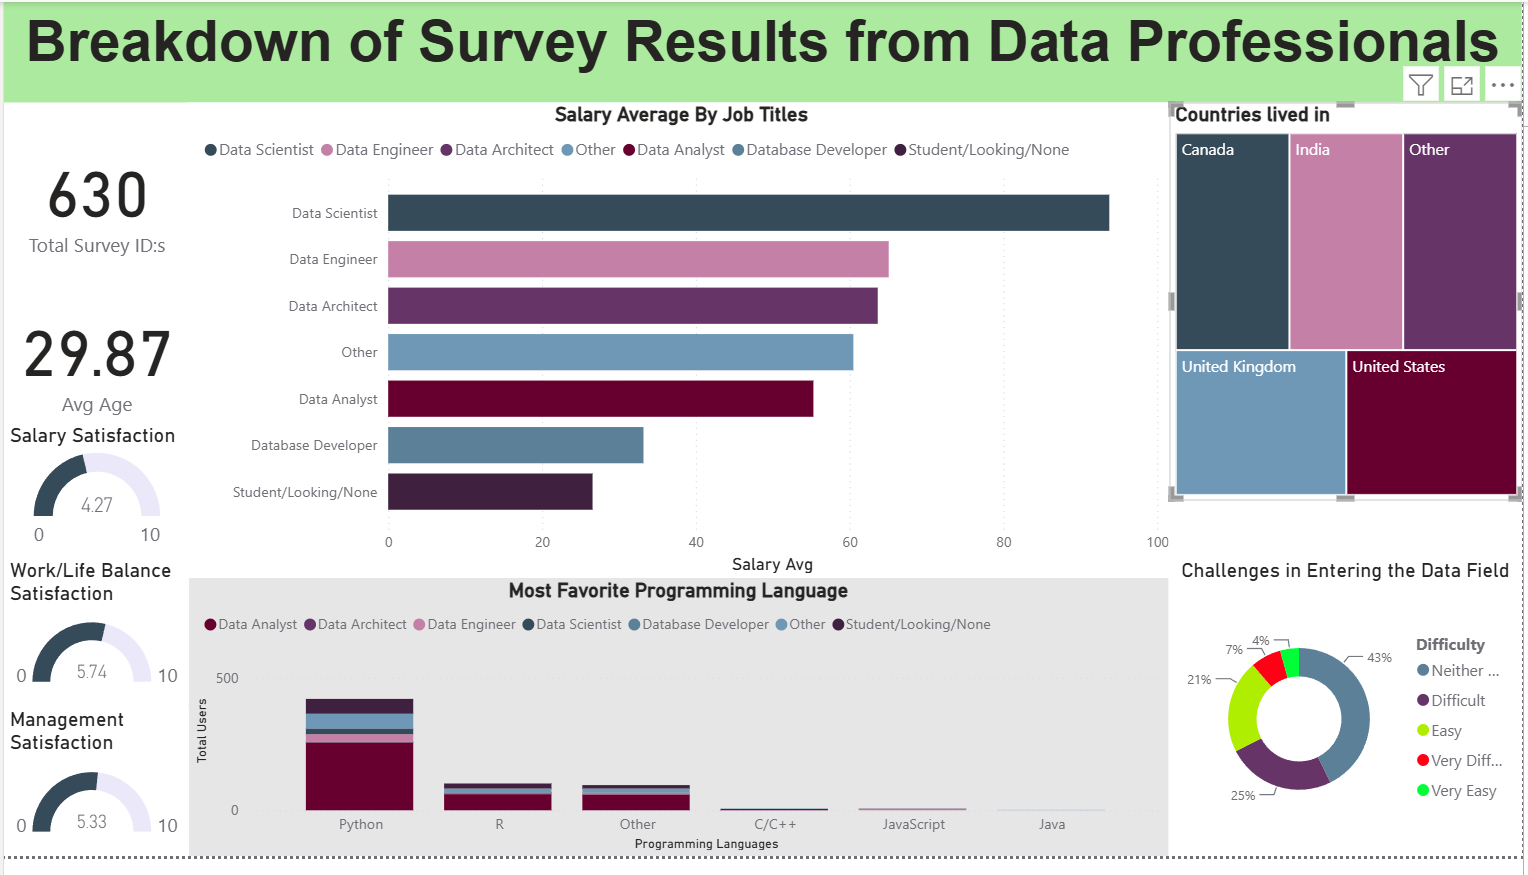

Layout of this report page (visuals, bound fields, positions):
{"tool":"powerbi","page":{"name":"Page 1","canvas":[1280,720],"ordinal":0},"visuals":[{"type":"textbox","box":[0,0,1279.5,84.7],"z":0},{"type":"card","fields":{"Values":["Count(Data Professional Survey.Unique ID)"]},"box":[0,110.3,156.1,111.8],"z":1000},{"type":"card","fields":{"Values":["Avg(Data Professional Survey.Q10 - Current Age)"]},"box":[0,243.9,156.1,111.8],"z":2000},{"type":"barChart","title":"Salary Average By Job Titles","fields":{"Category":["Data Professional Survey.Q1 - Which Title Best Fits your Current Role?.1"],"Y":["Avg(Data Professional Survey.Salary Avg)"],"Series":["Data Professional Survey.Q1 - Which Title Best Fits your Current Role?.1"]},"box":[156.1,84.2,831.2,401.4],"z":3000},{"type":"columnChart","title":"Most Favorite Programming Language","fields":{"Category":["Data Professional Survey.Q5 - Favorite Programming Language.1"],"Y":["CountNonNull(Data Professional Survey.Unique ID)"],"Series":["Data Professional Survey.Q1 - Which Title Best Fits your Current Role?.1"]},"box":[156.1,485.6,826.1,234.5],"z":4000},{"type":"treemap","title":"Countries lived in","fields":{"Values":["Count(Data Professional Survey.Q11 - Which Country do you live in?.1)"],"Group":["Data Professional Survey.Q11 - Which Country do you live in?.1"]},"box":[982.1,84.2,297.6,335.4],"z":5000},{"type":"gauge","title":"Work/Life Balance Satisfaction","fields":{"Y":["Avg(Data Professional Survey.Q6 - How Happy are you in your Current Position with the following? (Work/Life Balance))"],"MinValue":["Min(Data Professional Survey.Q6 - How Happy are you in your Current Position with the following? (Work/Life Balance))1"],"MaxValue":["Max(Data Professional Survey.Q6 - How Happy are you in your Current Position with the following? (Work/Life Balance))2"]},"box":[0,469.7,156.1,123.4],"z":6000},{"type":"gauge","title":"Salary Satisfaction","fields":{"Y":["Avg(Data Professional Survey.Q6 - How Happy are you in your Current Position with the following? (Salary))"],"MinValue":["Min(Data Professional Survey.Q6 - How Happy are you in your Current Position with the following? (Learning New Things))"],"MaxValue":["Max(Data Professional Survey.Q6 - How Happy are you in your Current Position with the following? (Learning New Things))1"]},"box":[0,355.7,156.1,114],"z":7000},{"type":"gauge","title":"Management Satisfaction","fields":{"Y":["Avg(Data Professional Survey.Q6 - How Happy are you in your Current Position with the following? (Management))"],"MaxValue":["Max(Data Professional Survey.Q6 - How Happy are you in your Current Position with the following? (Management))1"],"MinValue":["Min(Data Professional Survey.Q6 - How Happy are you in your Current Position with the following? (Management))"]},"box":[0,594.5,156.1,125.6],"z":8000},{"type":"donutChart","title":"Challenges in Entering the Data Field","fields":{"Category":["Data Professional Survey.Q7 - How difficult was it for you to break into Data?"],"Y":["CountNonNull(Data Professional Survey.Q7 - How difficult was it for you to break into Data?)"]},"box":[987.2,469.7,292.5,250.4],"z":9000}]}

Visuals, with their boxes in screenshot pixels (x1, y1, x2, y2), scaled from the page's 1280x720 canvas onto the 1528x875 screenshot:
textbox: <bbox>0, 0, 1527, 103</bbox>
card - Count(Data Professional Survey.Unique ID): <bbox>0, 134, 186, 270</bbox>
card - Avg(Data Professional Survey.Q10 - Current Age): <bbox>0, 296, 186, 432</bbox>
"Salary Average By Job Titles" barChart: <bbox>186, 102, 1179, 590</bbox>
"Most Favorite Programming Language" columnChart: <bbox>186, 590, 1173, 874</bbox>
"Countries lived in" treemap: <bbox>1172, 102, 1527, 510</bbox>
"Work/Life Balance Satisfaction" gauge: <bbox>0, 571, 186, 721</bbox>
"Salary Satisfaction" gauge: <bbox>0, 432, 186, 571</bbox>
"Management Satisfaction" gauge: <bbox>0, 722, 186, 874</bbox>
"Challenges in Entering the Data Field" donutChart: <bbox>1178, 571, 1527, 874</bbox>
